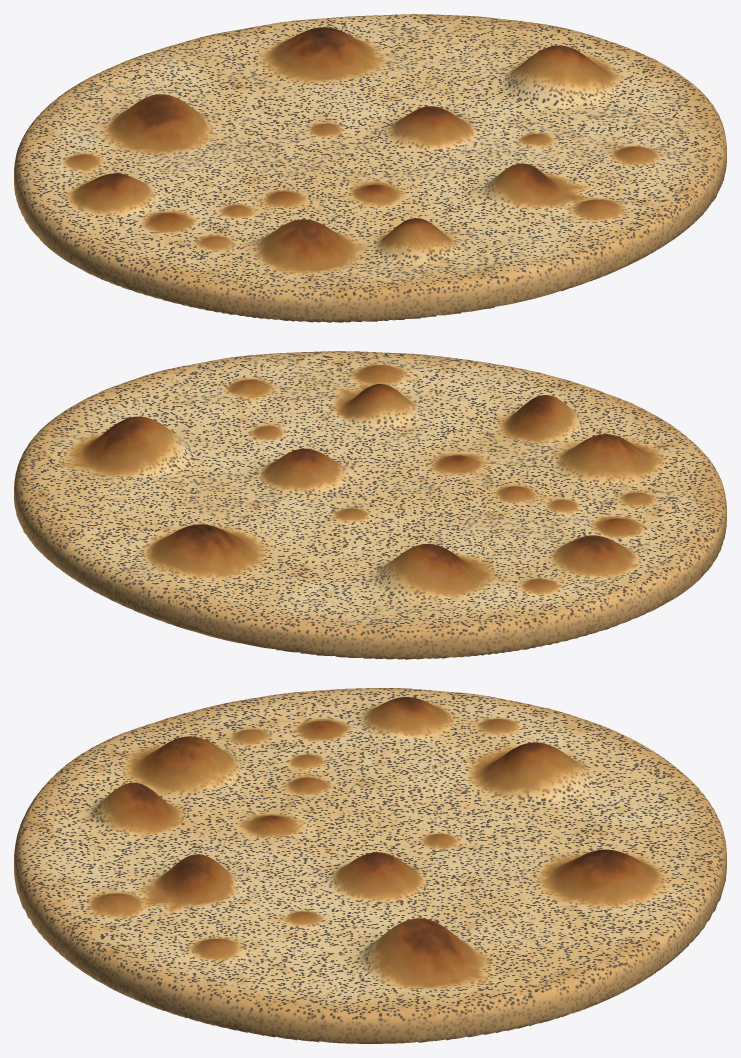
Rendered from flatbread--poppyseed-seed.glb.
The picture shows the model from 3 angles, top to bottom: view 1: azimuth 30°, elevation 25°; view 2: azimuth 150°, elevation 25°; view 3: azimuth 270°, elevation 25°; orthographic projection. The views are drawn at different scales.
Parts seen in each view (by area): view 1: flatbread_poppyseed-seed; view 2: flatbread_poppyseed-seed; view 3: flatbread_poppyseed-seed.
Part boxes in pixels (x1,y1,x2,y2): flatbread_poppyseed-seed: [14, 14, 726, 322]; flatbread_poppyseed-seed: [14, 351, 726, 659]; flatbread_poppyseed-seed: [14, 688, 726, 1043].
Size of the model in its own units: 0.9981 by 0.0963 by 0.9017.
Materials: 1 (1 with a texture image).
